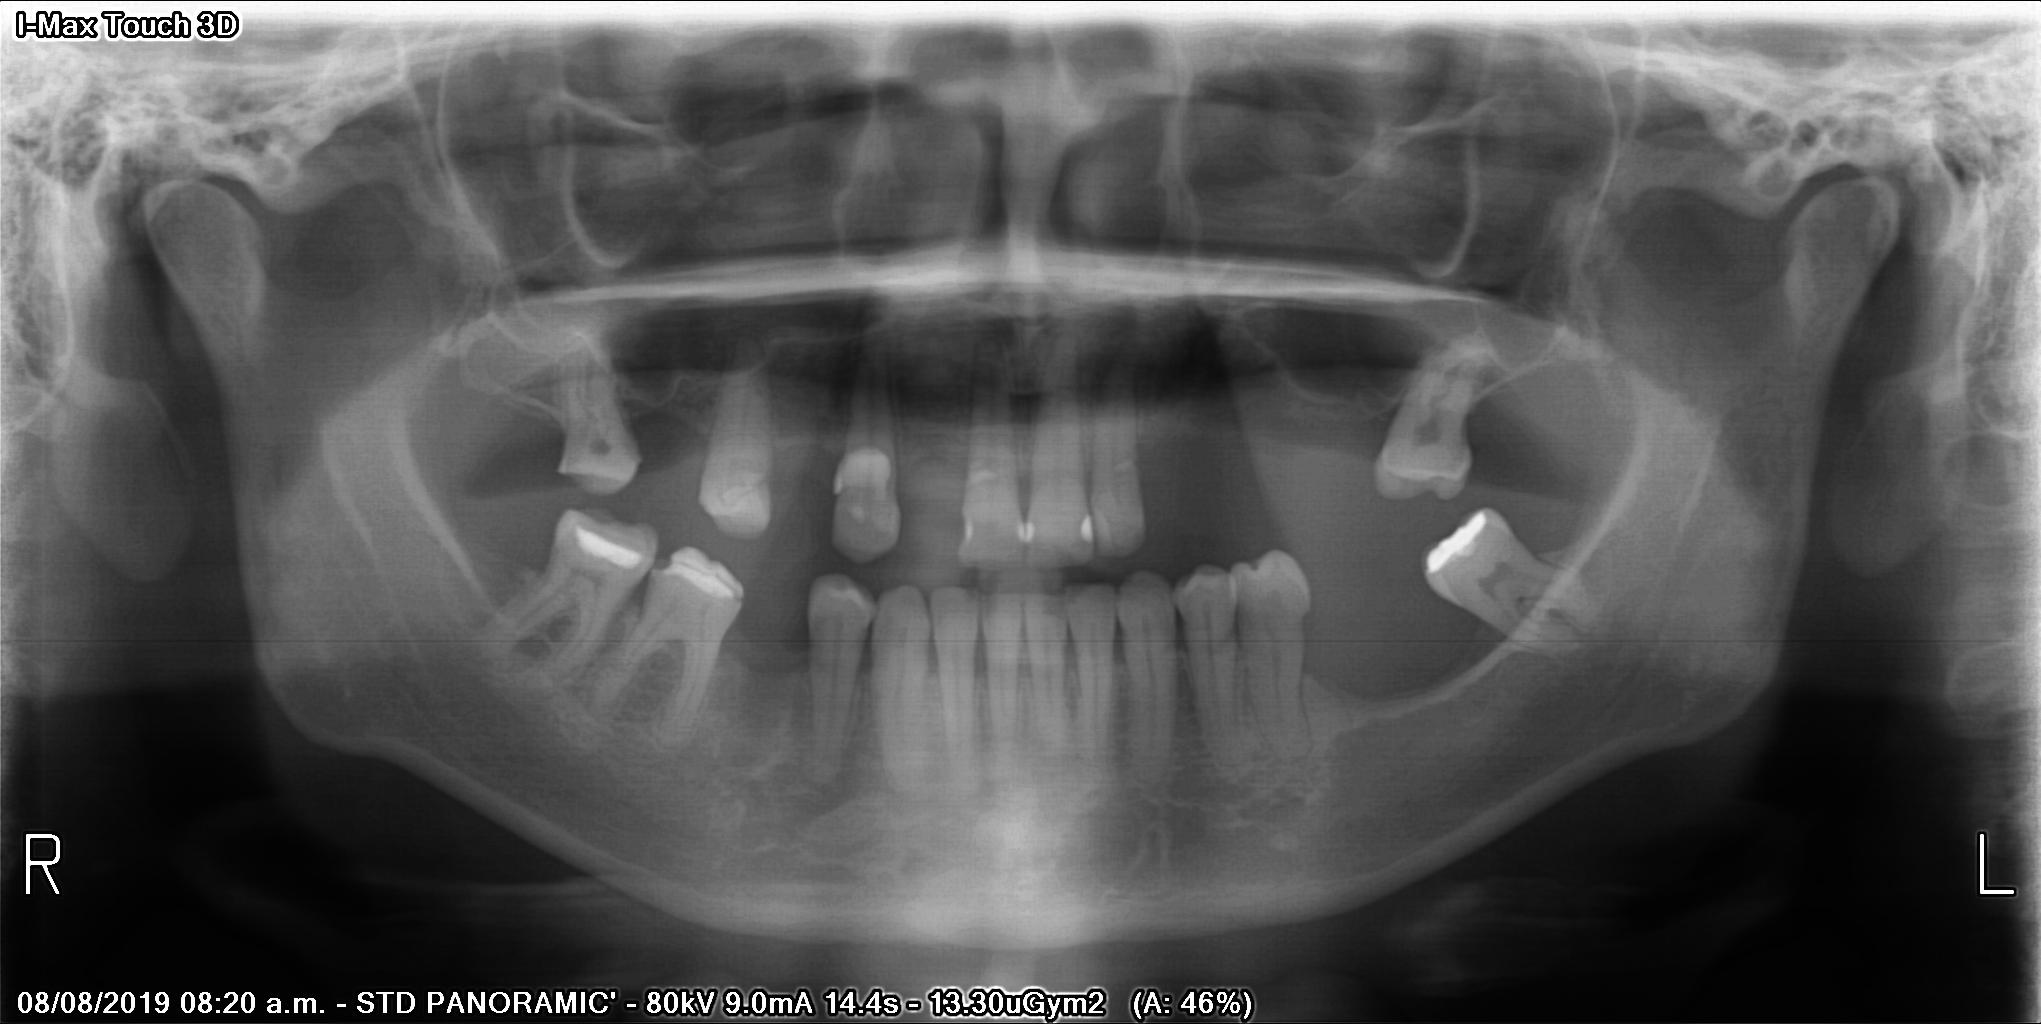Çürük: (1413, 502, 1500, 583), (656, 538, 751, 605), (568, 513, 650, 573), (1019, 524, 1033, 546), (1083, 516, 1096, 539)
Çürük Bölgesi: (1073, 511, 1083, 554)
